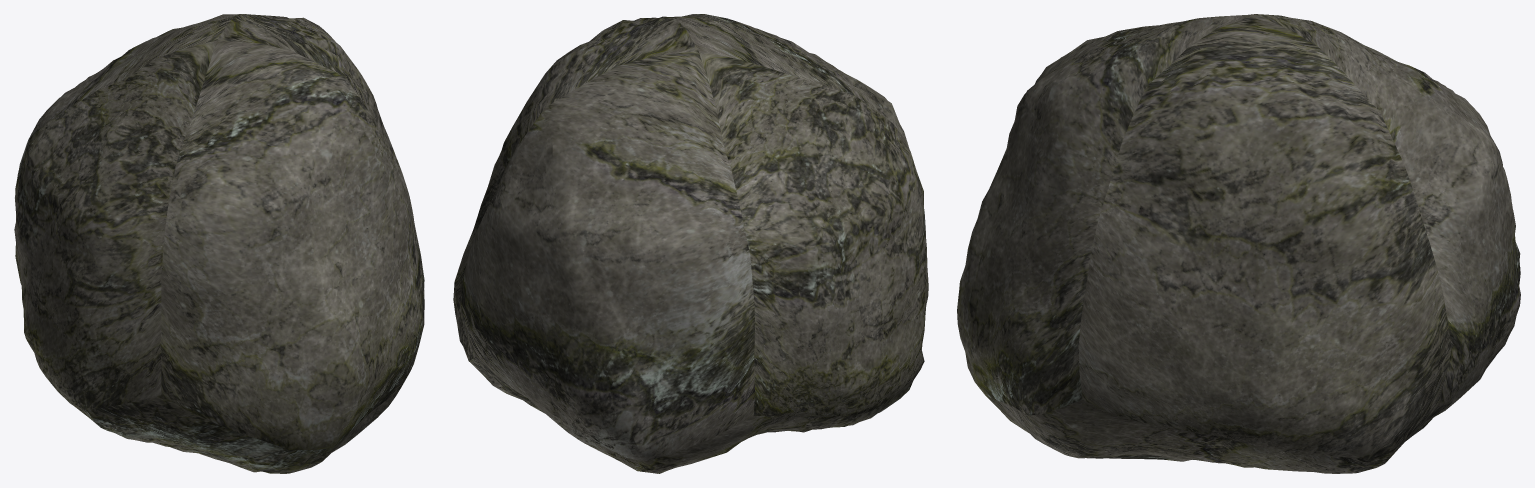
The model's file is Rock5.fbx.
The picture shows the model from 3 angles, left to right: view 1: azimuth 30°, elevation 25°; view 2: azimuth 150°, elevation 25°; view 3: azimuth 270°, elevation 25°; orthographic projection. The views are drawn at different scales.
Visible parts, largest first — view 1: rock.015; view 2: rock.015; view 3: rock.015.
Boxes of the visible parts, box(x1,y1,x2,y2) form: rock.015: box(14, 14, 424, 473); rock.015: box(453, 14, 928, 473); rock.015: box(957, 14, 1520, 473).
Bounding box in the file's own units: 94.84 × 95.34 × 109.
